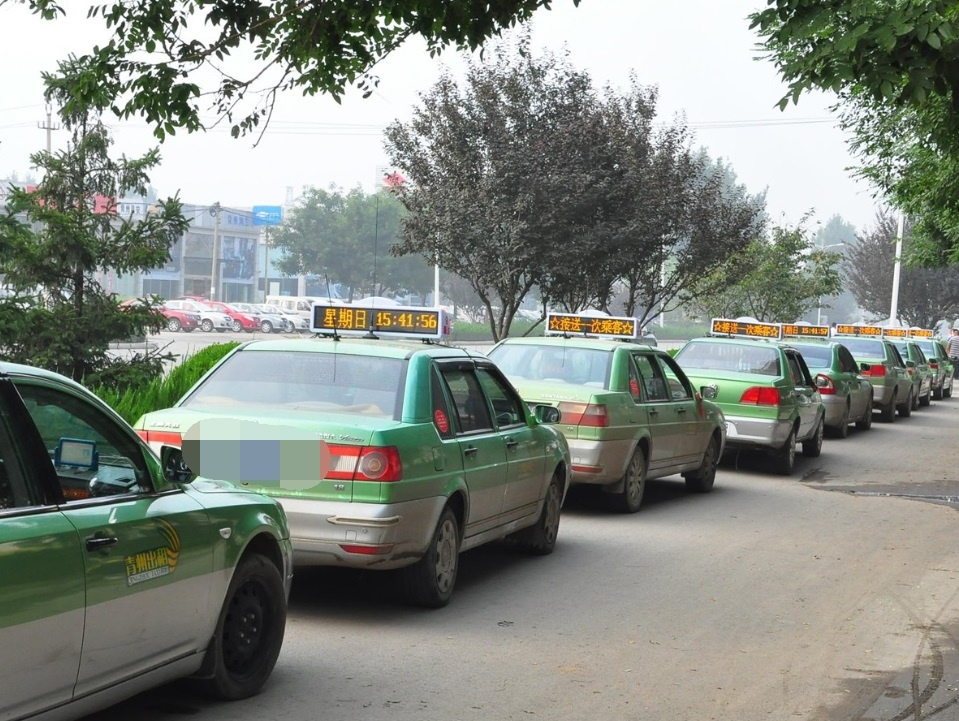taxi: (130, 299, 574, 604), (670, 312, 830, 477)
